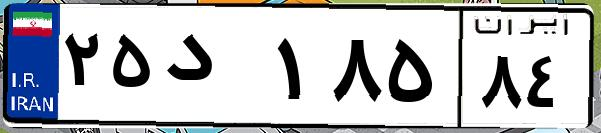1: (270, 28, 330, 110)
2: (57, 26, 110, 100)
4: (525, 38, 570, 115)
5: (385, 28, 445, 110), (110, 28, 158, 98)
8: (330, 28, 385, 110), (475, 38, 525, 113)
د: (158, 20, 270, 120)
